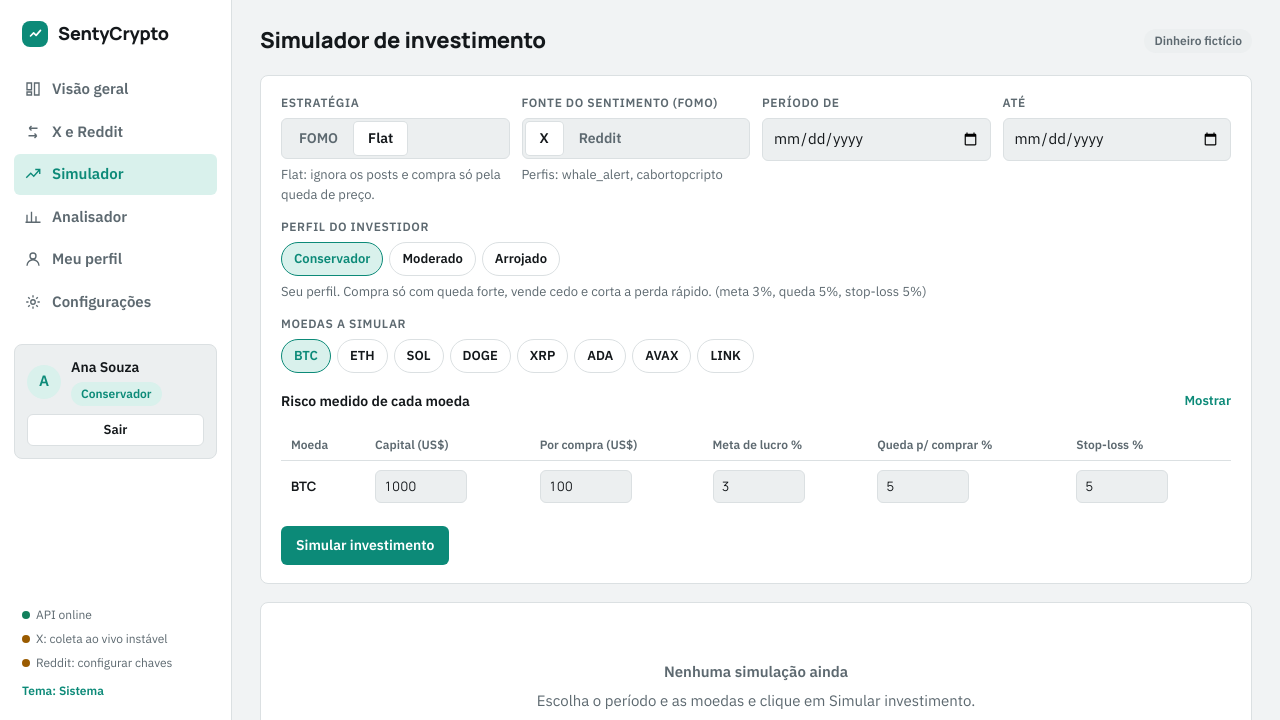
Test: cadastro e perfil › moeda de risco acima do perfil gera aviso para quem é conservador
This screenshot has width=1280, height=720.
Expected: the heading "Simulador de investimento" is shown, [260,24,546,57]
Step 1. Click the button "DOGE" → coordinates (480, 356), box [450,339,511,372]
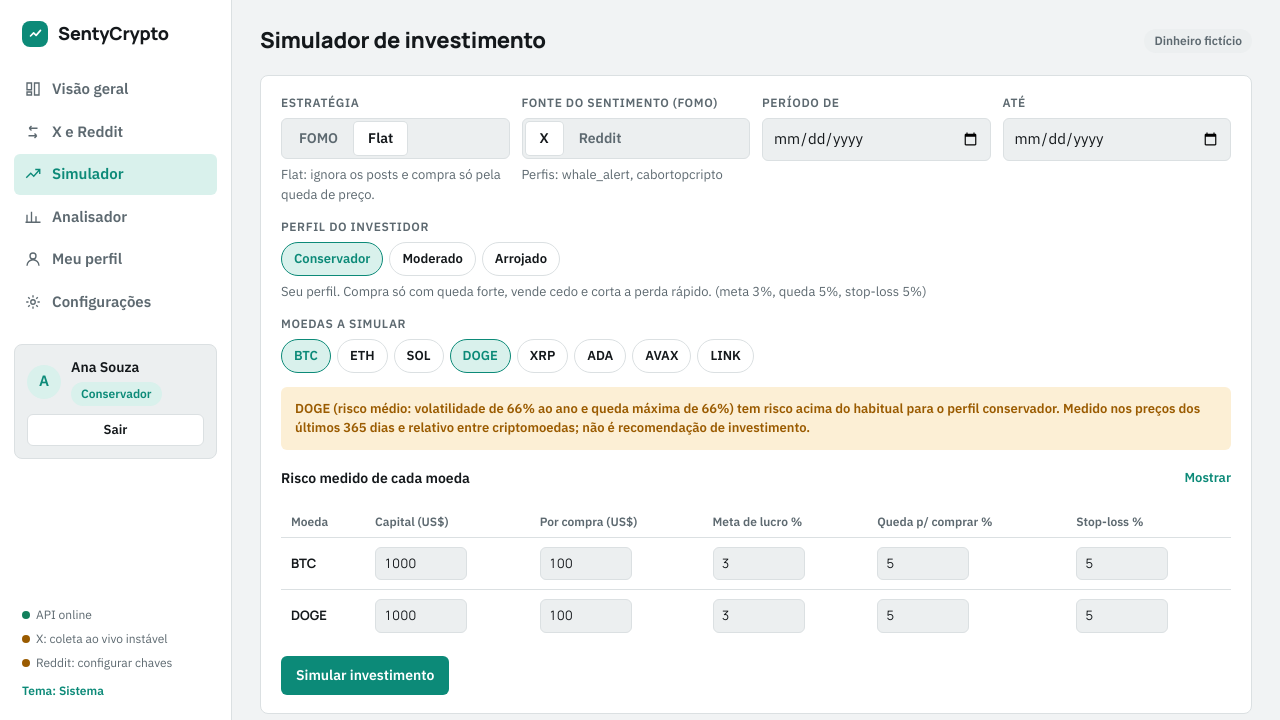
Expected: the text "DOGE (risco médio: volatilidade de 66% ao ano e queda máxima de 66%)" is shown, [295,400,1200,436]
Expected: the text "perfil conservador" is shown, [295,400,1200,436]
